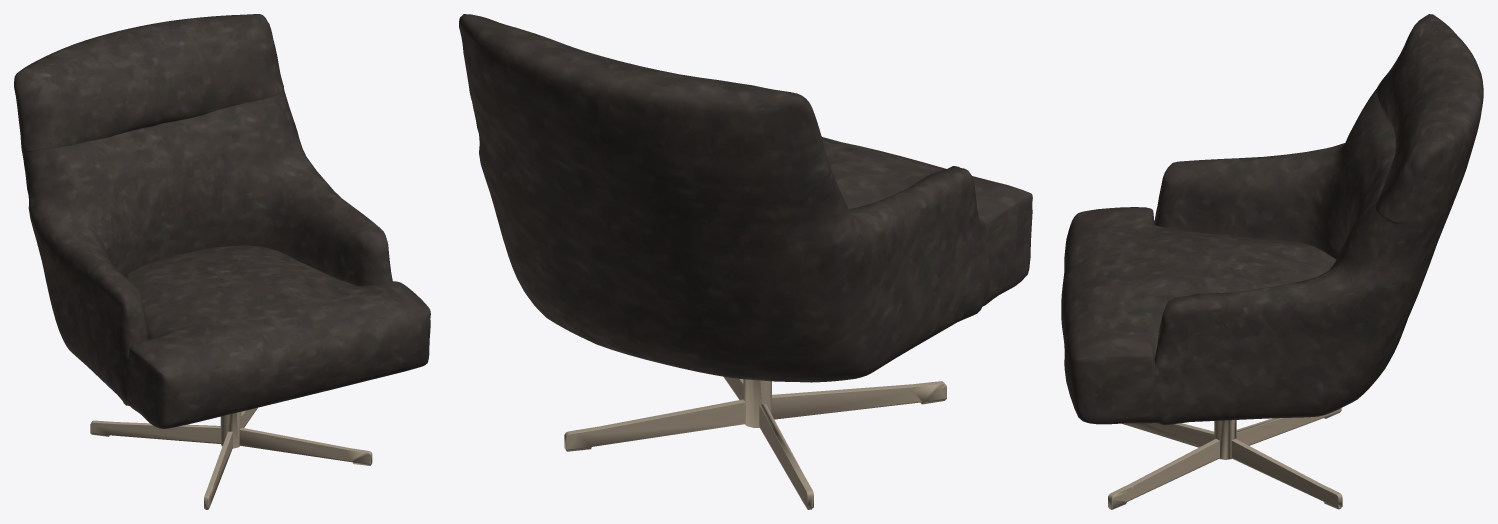
The model's file is B075X4PTQV.glb.
3 views of the same model, side by side, from view 1: azimuth 30°, elevation 25°; view 2: azimuth 150°, elevation 25°; view 3: azimuth 270°, elevation 25° (orthographic). The views are drawn at different scales.
Parts seen in each view (by area): view 1: RootNode; view 2: RootNode; view 3: RootNode.
Part boxes in pixels (x1,y1,x2,y2): RootNode: [14, 14, 430, 509]; RootNode: [459, 14, 1032, 509]; RootNode: [1061, 14, 1483, 509].
Size of the model in its own units: 0.738 by 0.8695 by 0.8745.
Materials: 1 (1 with a texture image).
